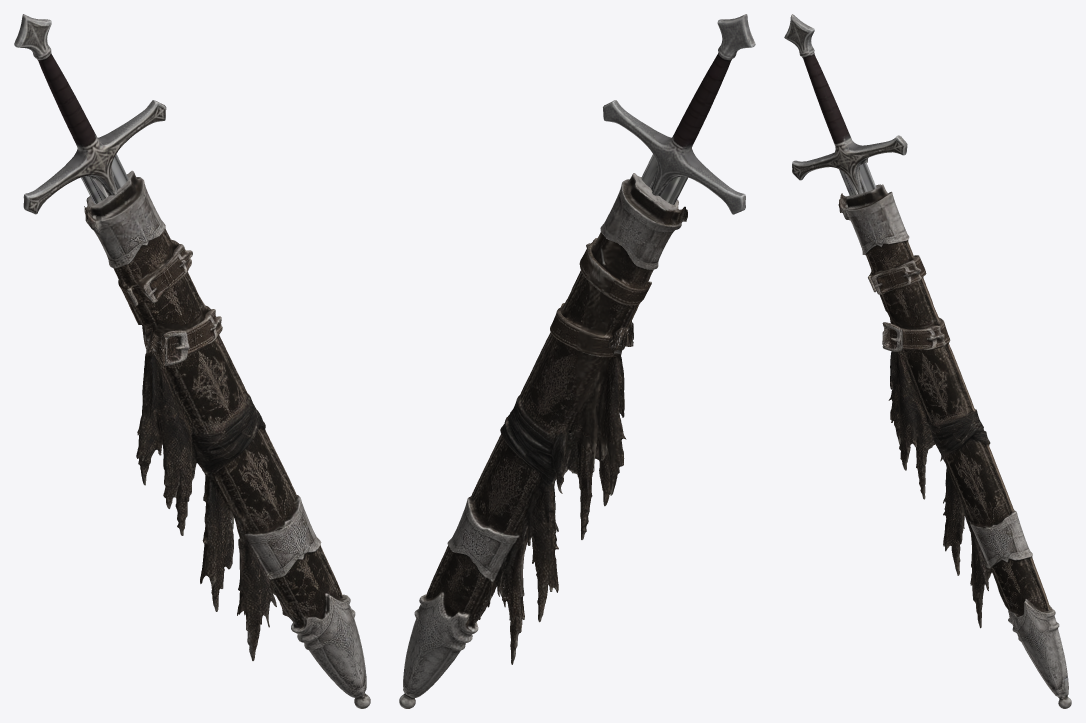
File: sword and sword holder.glb
The picture shows the model from 3 angles, left to right: view 1: azimuth 30°, elevation 25°; view 2: azimuth 150°, elevation 25°; view 3: azimuth 330°, elevation 25°; orthographic projection. The views are drawn at different scales.
Parts seen in each view (by area): view 1: Mesh_0.001, Mesh_0.002; view 2: Mesh_0.001, Mesh_0.002; view 3: Mesh_0.001, Mesh_0.002.
Part boxes in pixels (x1,y1,x2,y2): Mesh_0.001: (84, 170, 370, 708); Mesh_0.002: (14, 14, 166, 214); Mesh_0.001: (399, 173, 687, 708); Mesh_0.002: (603, 14, 755, 214); Mesh_0.001: (838, 184, 1071, 708); Mesh_0.002: (784, 14, 907, 195).
Size of the model in its own units: 0.4349 by 0.9108 by 0.063.
2 materials, 2 textured.
